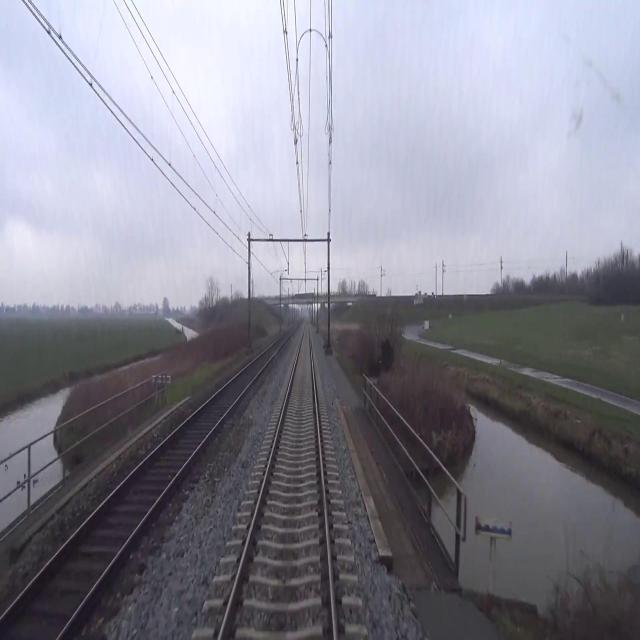rail-track: (0, 329, 291, 639), (221, 322, 332, 639)
